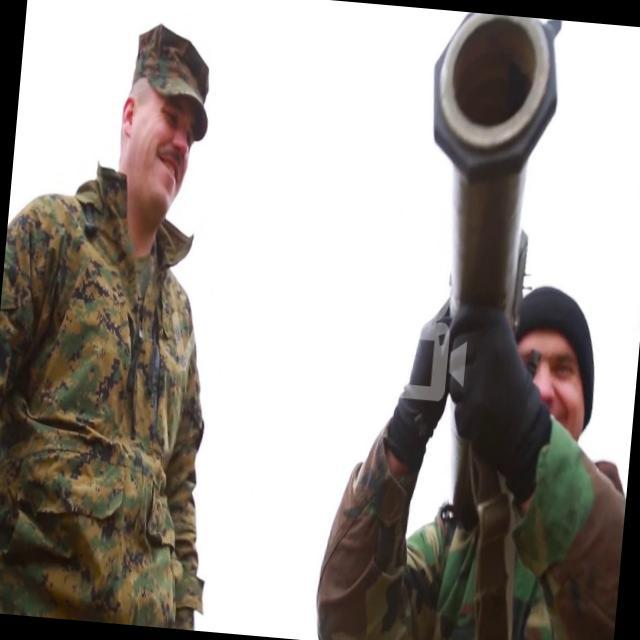rocket: (412, 9, 566, 322)
